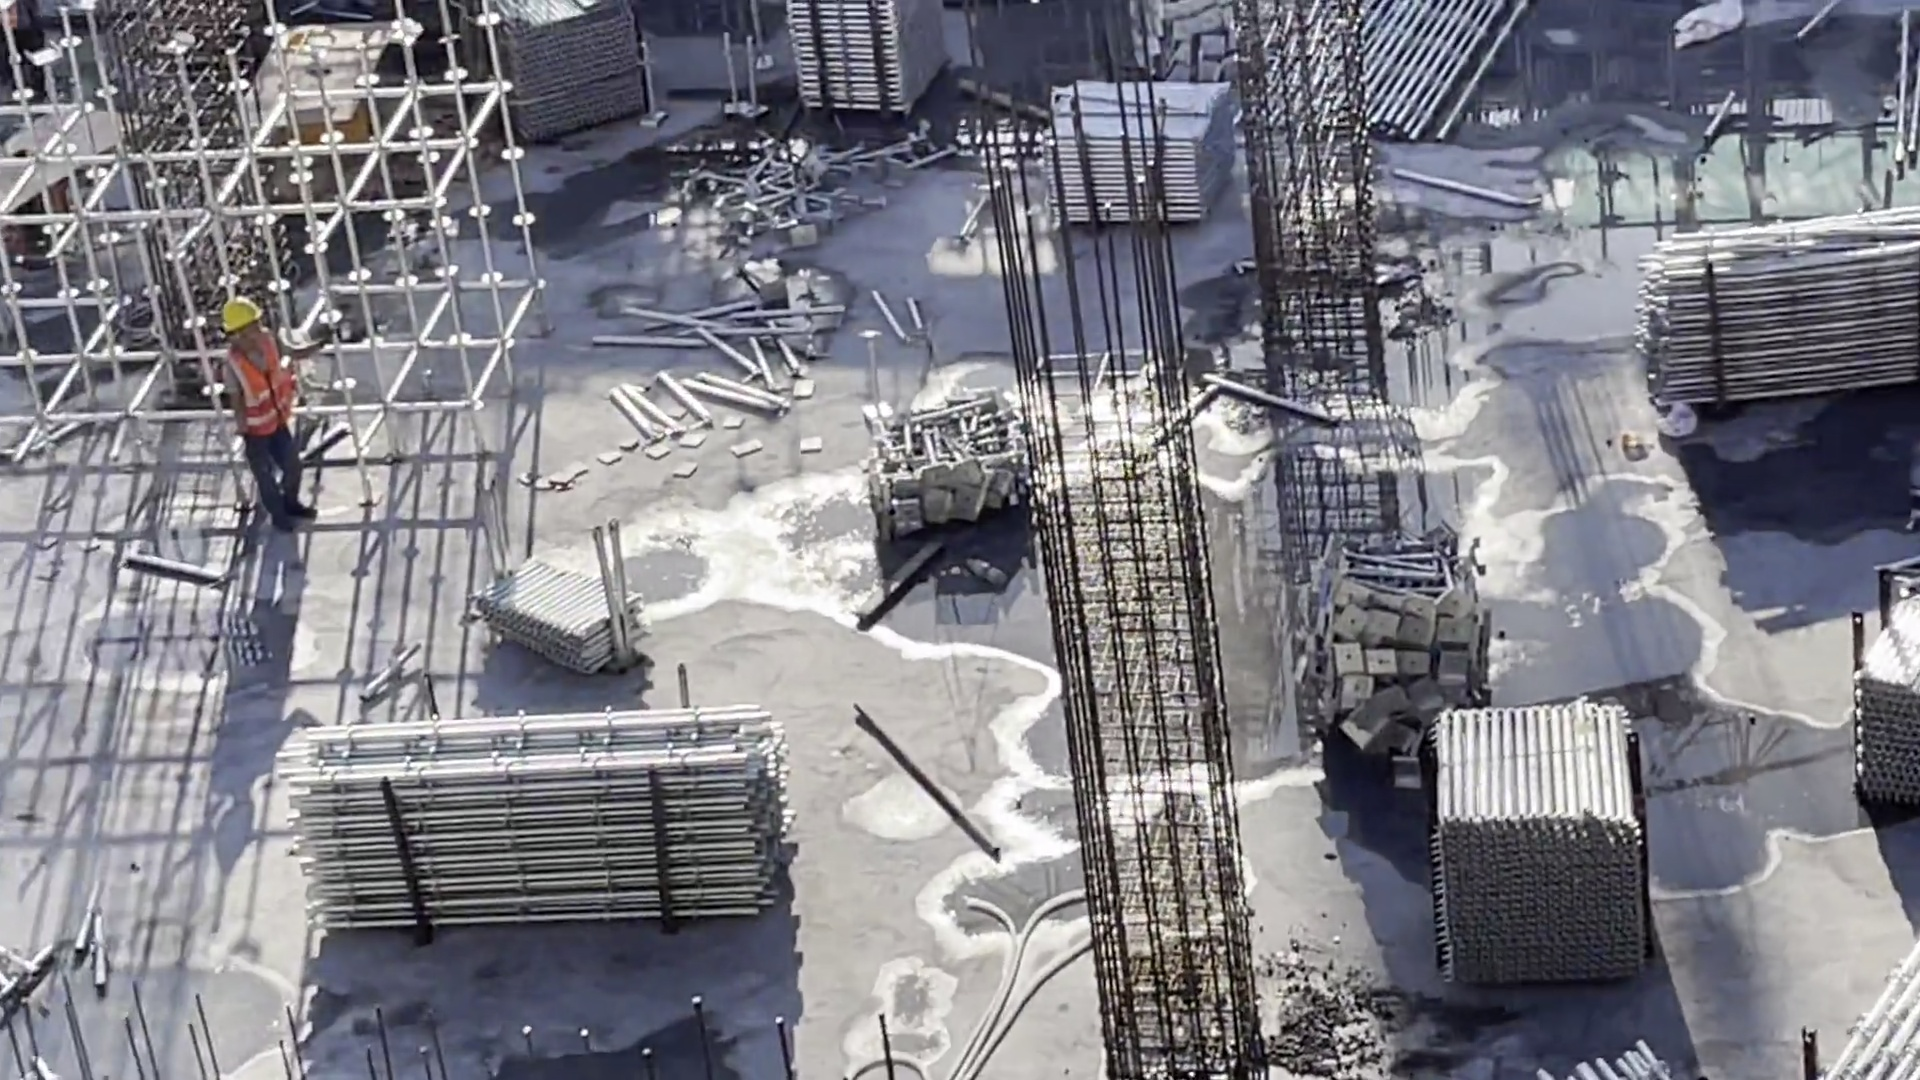cutter: (1, 82, 191, 232), (228, 19, 400, 167)
helmet: (228, 301, 264, 335)
person: (207, 298, 310, 528)
scaffold: (288, 709, 794, 922), (1434, 687, 1648, 981), (1639, 190, 1920, 397), (1306, 526, 1505, 768), (1052, 61, 1224, 226), (859, 398, 1047, 532), (461, 546, 648, 670), (484, 1, 664, 128), (1350, 1, 1509, 135), (801, 1, 966, 113), (1847, 570, 1920, 790)
vest: (222, 336, 300, 435)
